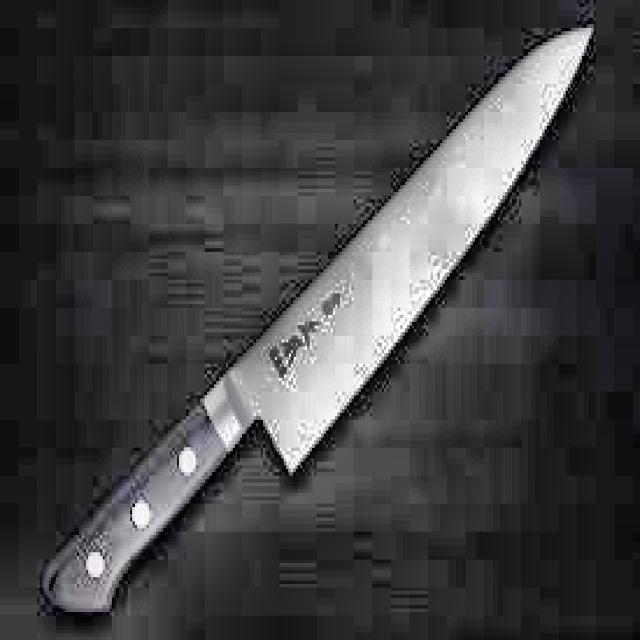knife: (46, 27, 593, 614)
